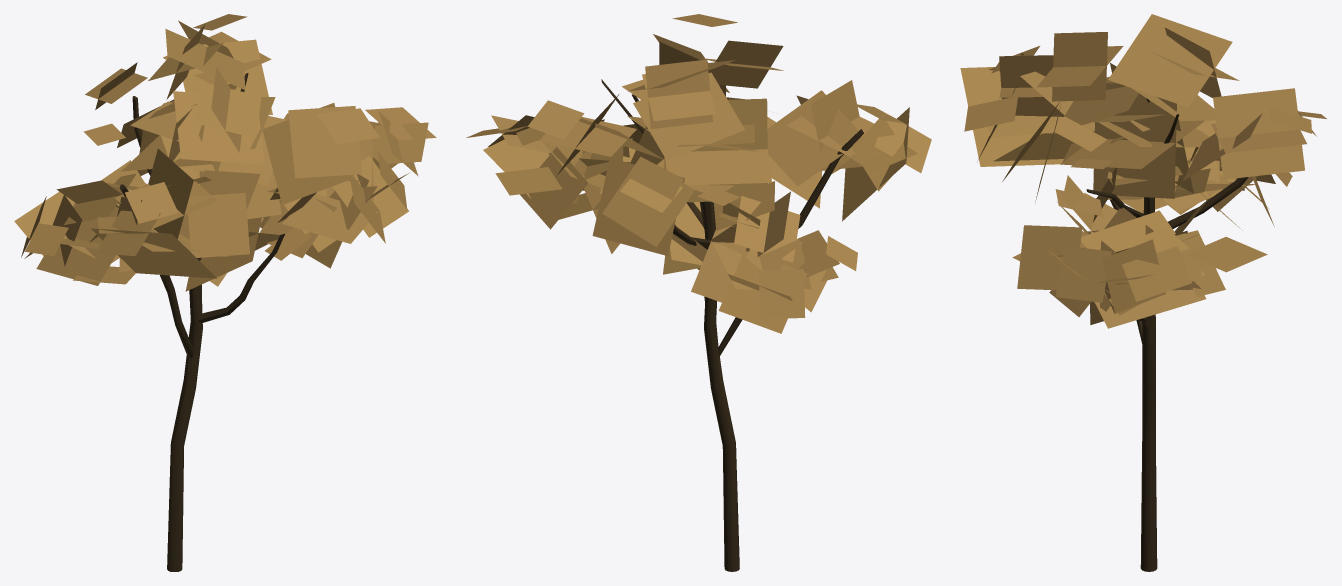
The model's file is Oak small LOD 1.fbx.
3 renders of one model, left to right at view 1: azimuth 30°, elevation 25°; view 2: azimuth 150°, elevation 25°; view 3: azimuth 270°, elevation 25°, orthographic. The views are drawn at different scales.
Parts seen in each view (by area): view 1: Small_Oak_LOD_1; view 2: Small_Oak_LOD_1; view 3: Small_Oak_LOD_1.
Part boxes in pixels (bbox=[...]): Small_Oak_LOD_1: bbox=[14, 14, 436, 571]; Small_Oak_LOD_1: bbox=[466, 14, 931, 571]; Small_Oak_LOD_1: bbox=[960, 14, 1326, 571].
Bounding box in the file's own units: 5.66 × 7.06 × 4.26.
